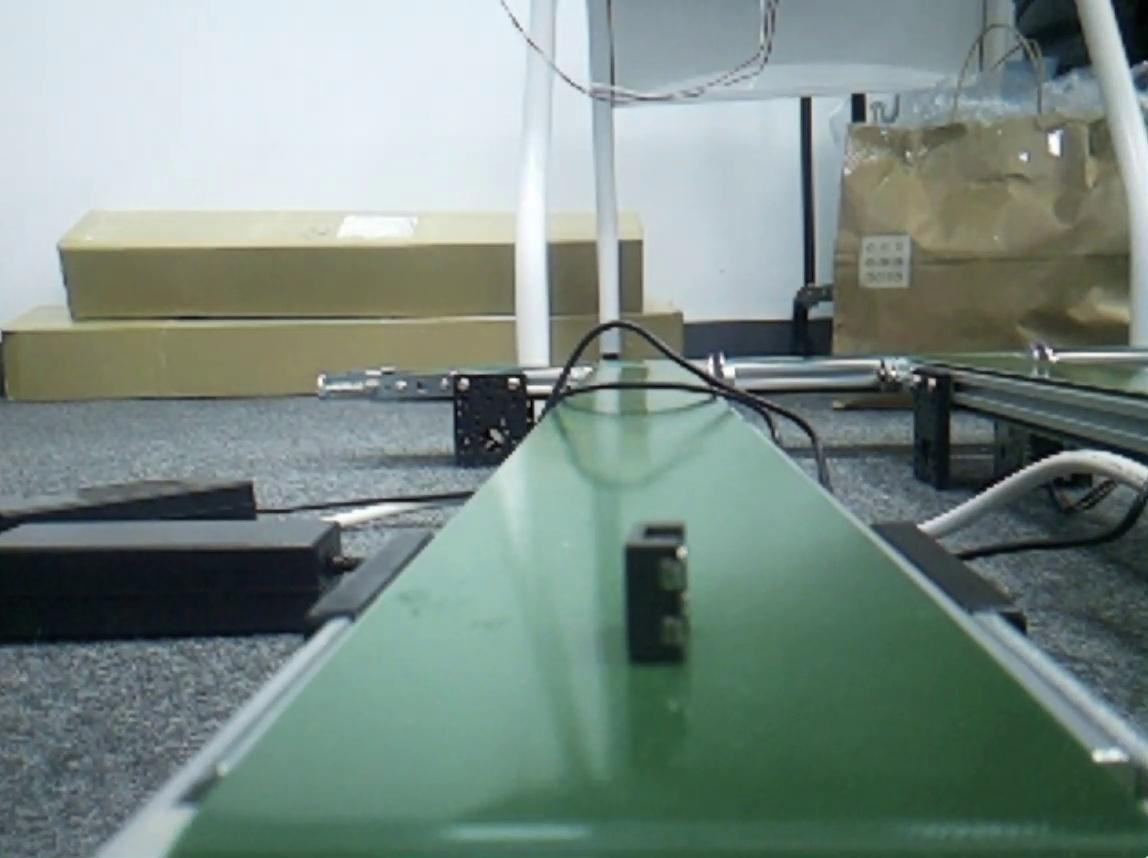inductor: (627, 517, 692, 664)
